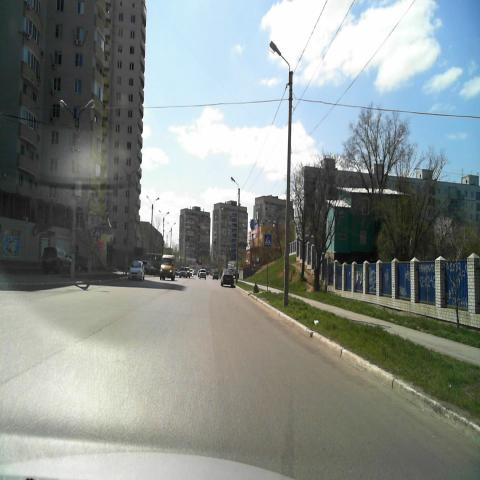5_19_1: (264, 233, 272, 247), (94, 226, 101, 239)
